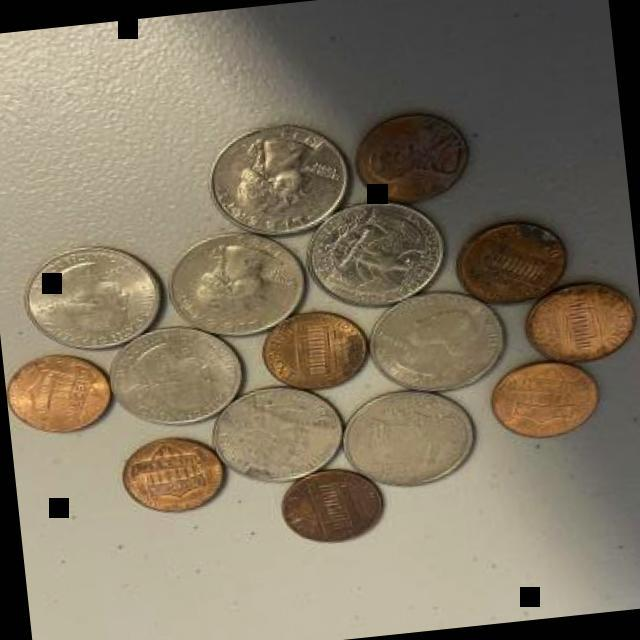Nickel: (202, 119, 356, 242), (157, 226, 310, 346), (18, 238, 168, 358), (300, 195, 448, 314), (362, 282, 508, 399), (338, 376, 480, 495), (201, 378, 349, 492), (104, 319, 248, 435)
Penny: (446, 212, 576, 312), (347, 108, 473, 210), (2, 346, 120, 442), (484, 354, 606, 444), (255, 304, 374, 394), (523, 278, 640, 368), (119, 430, 232, 520), (276, 462, 386, 550)
